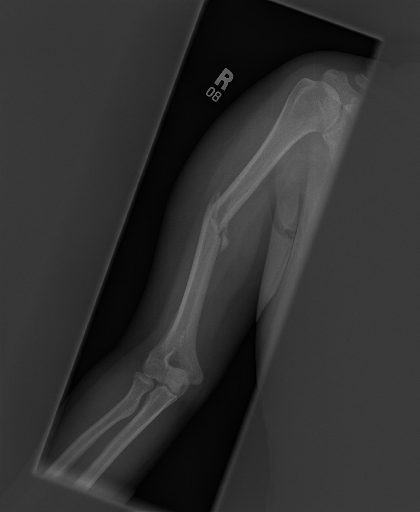fracture: (191, 180, 248, 252)
